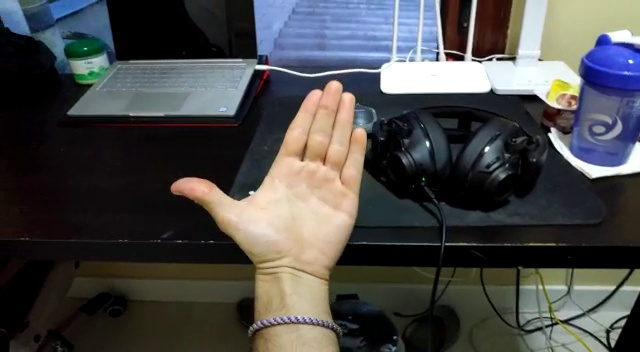Palm: (166, 78, 379, 281)
